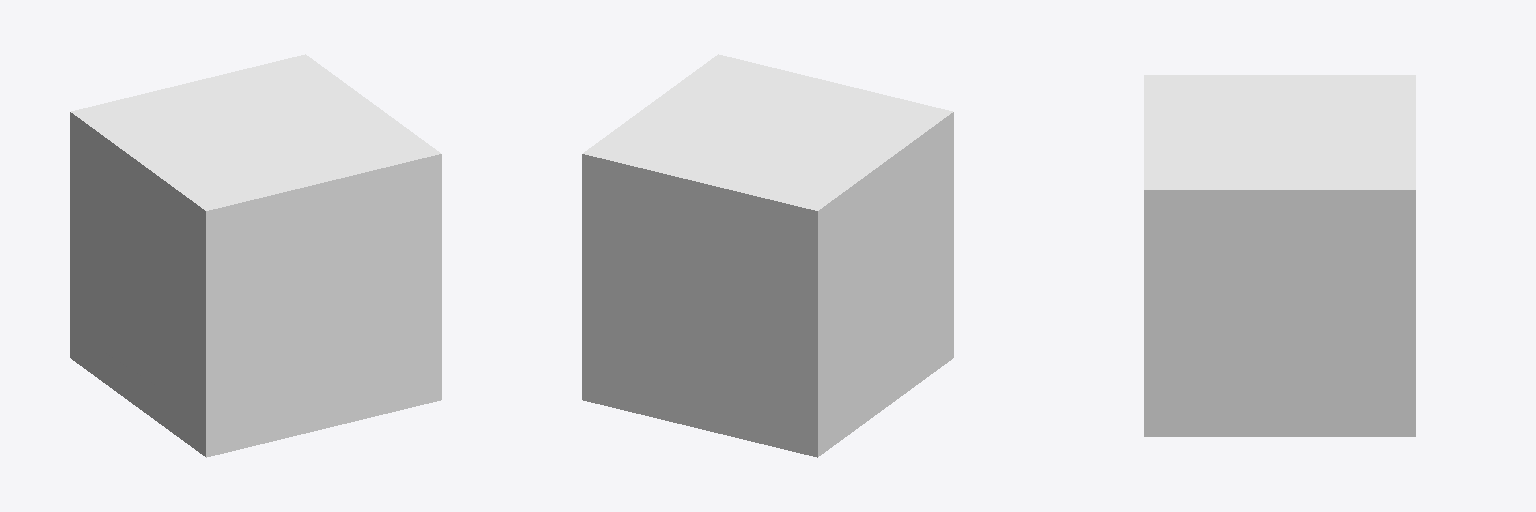
File: Bom.obj
3 renders of one model, left to right at view 1: azimuth 30°, elevation 25°; view 2: azimuth 150°, elevation 25°; view 3: azimuth 270°, elevation 25°, orthographic.
Parts seen in each view (by area): view 1: object 1; view 2: object 1; view 3: object 1.
Part boxes in pixels (x1,y1,x2,y2): object 1: (70, 54, 441, 457); object 1: (582, 54, 953, 457); object 1: (1144, 75, 1415, 436).
Size of the model in its own units: 4 by 4 by 4.